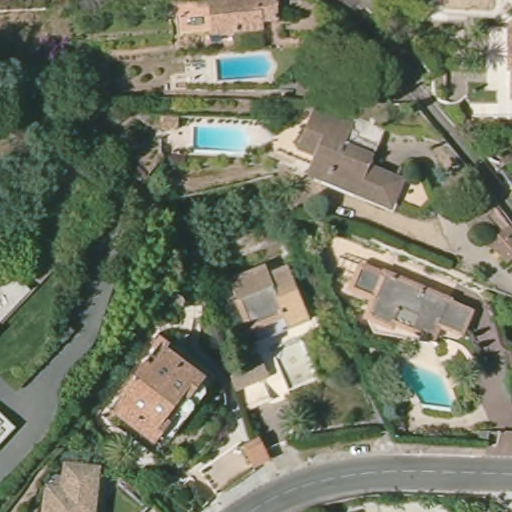pool: (402, 358, 460, 411), (186, 117, 254, 156), (212, 51, 275, 85)
